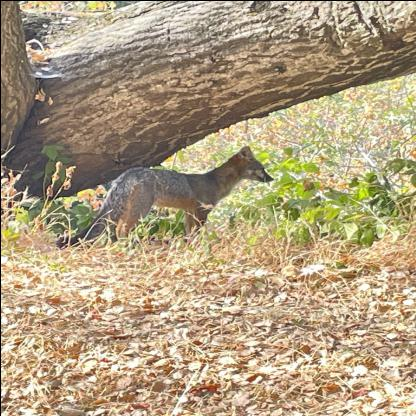zorro: (42, 142, 274, 251)
